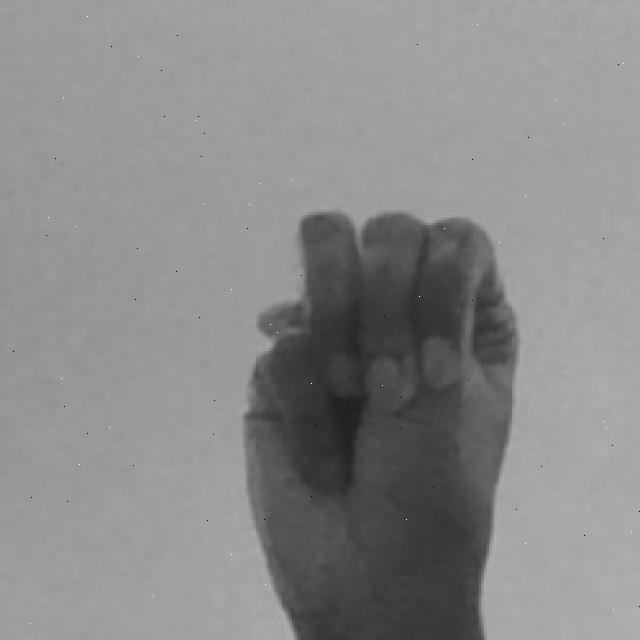M: (237, 199, 527, 640)
